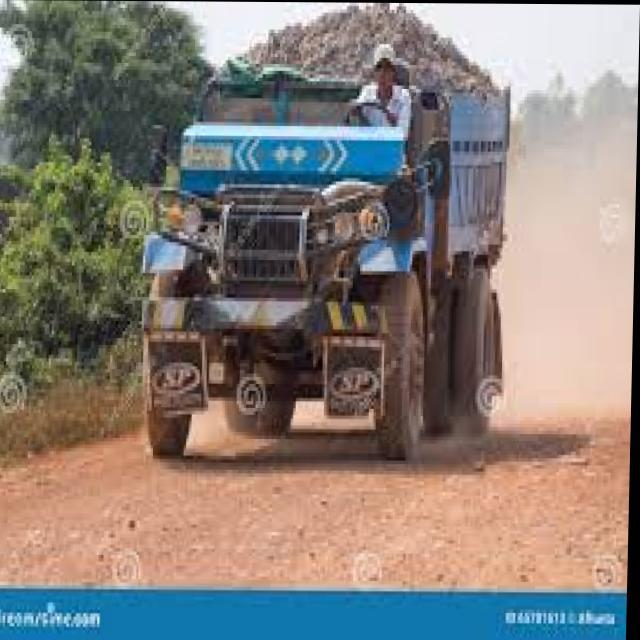uncovered: (140, 1, 510, 454)
